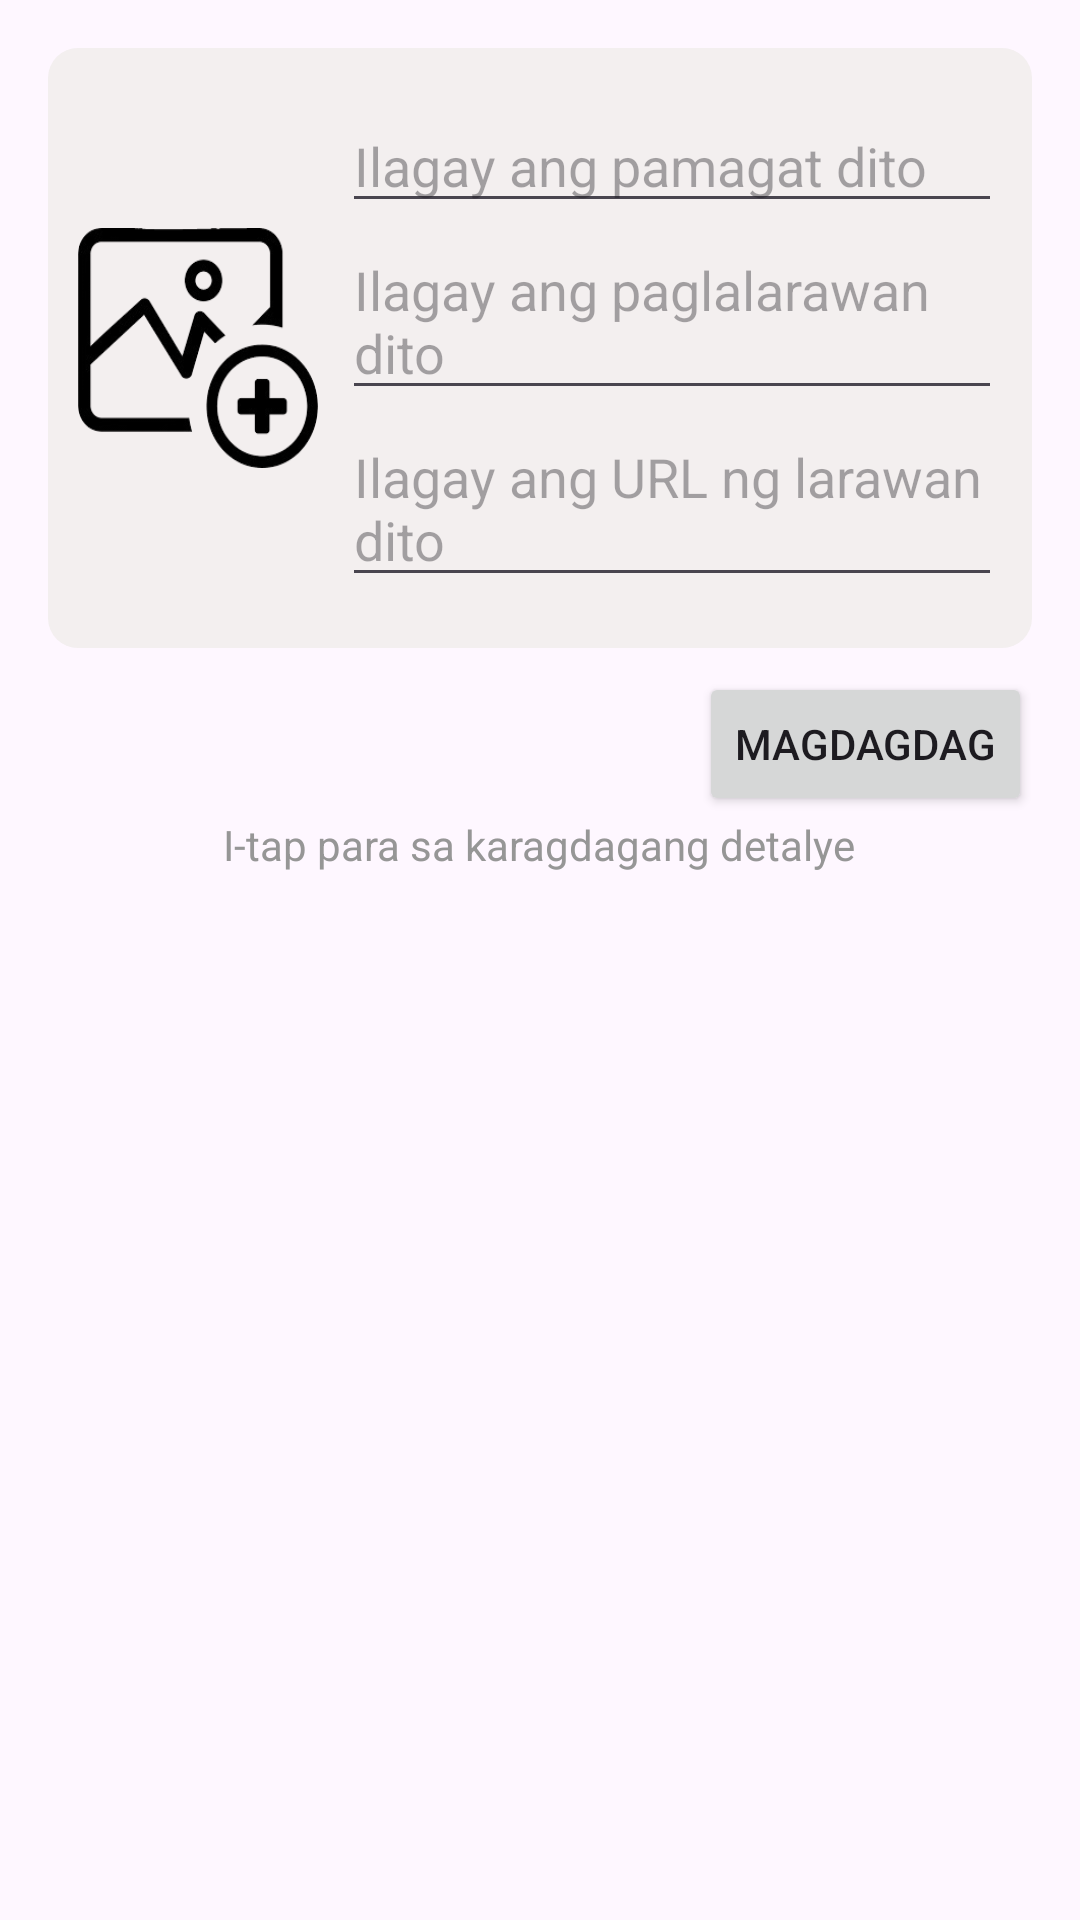

Named icons in this screenshot (1080×1920) and their centers, point (x, y):
Upload image here: point (198, 348)
